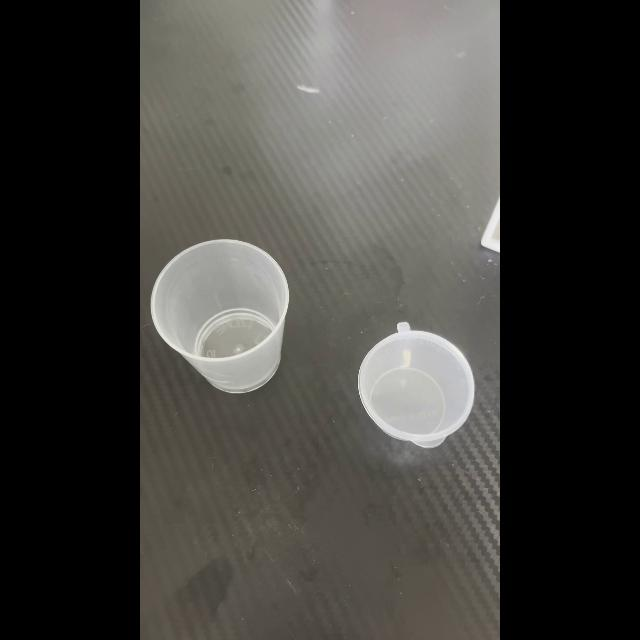clean: (151, 238, 291, 389), (357, 326, 477, 446)
